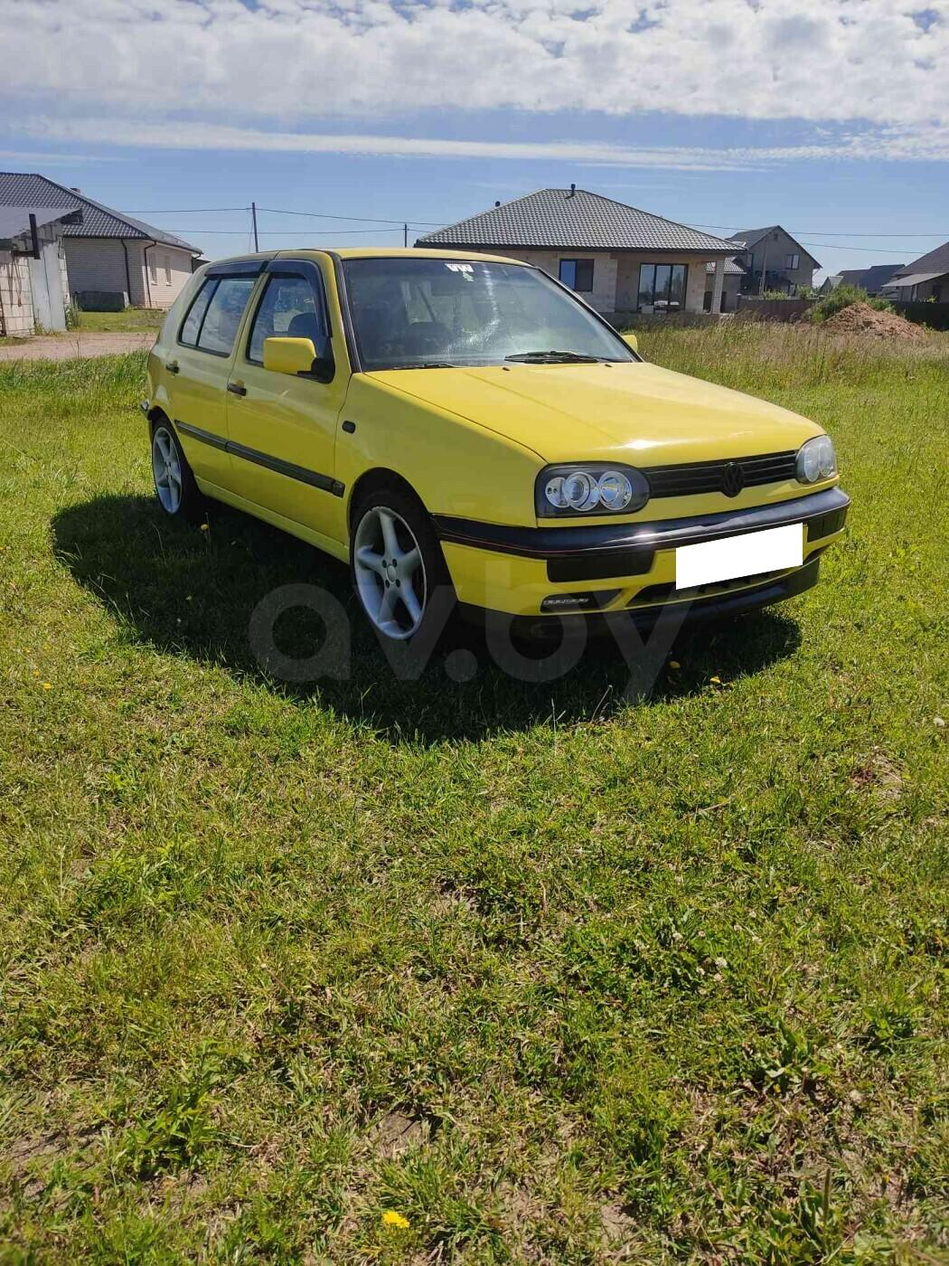Golf_1991-2000: (140, 240, 852, 664)
